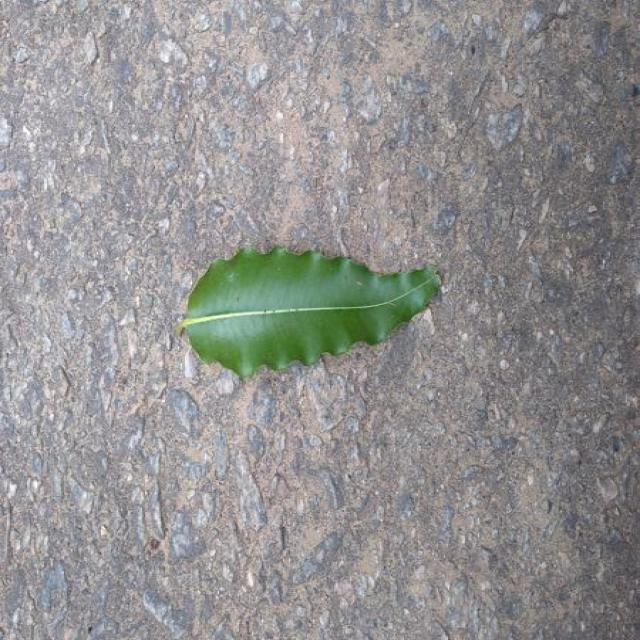ashoka: (178, 246, 440, 376)
